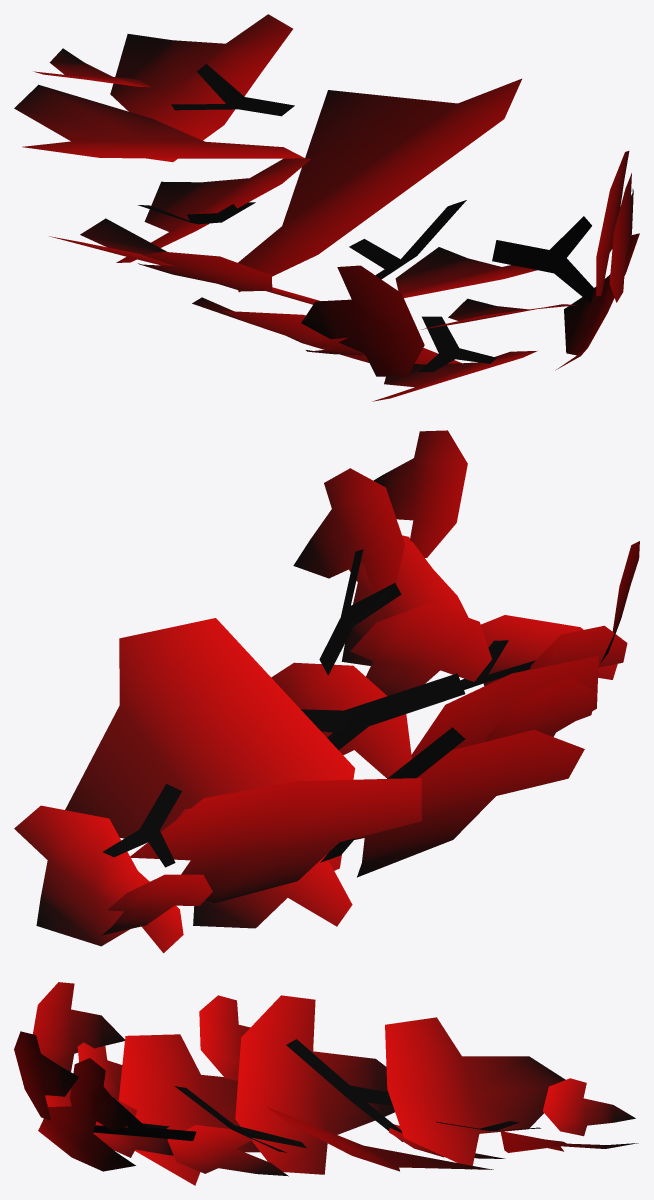
File: MSH_Ivy.fbx
The picture shows the model from 3 angles, top to bottom: view 1: azimuth 30°, elevation 25°; view 2: azimuth 150°, elevation 25°; view 3: azimuth 270°, elevation 25°; orthographic projection. The views are drawn at different scales.
Visible parts, largest first — view 1: MSH_Ivy; view 2: MSH_Ivy; view 3: MSH_Ivy.
Part boxes in pixels (x1,y1,x2,y2): MSH_Ivy: [14, 14, 639, 401]; MSH_Ivy: [14, 430, 639, 953]; MSH_Ivy: [14, 982, 638, 1185].
Size of the model in its own units: 0.5497 by 0.2983 by 0.9439.
